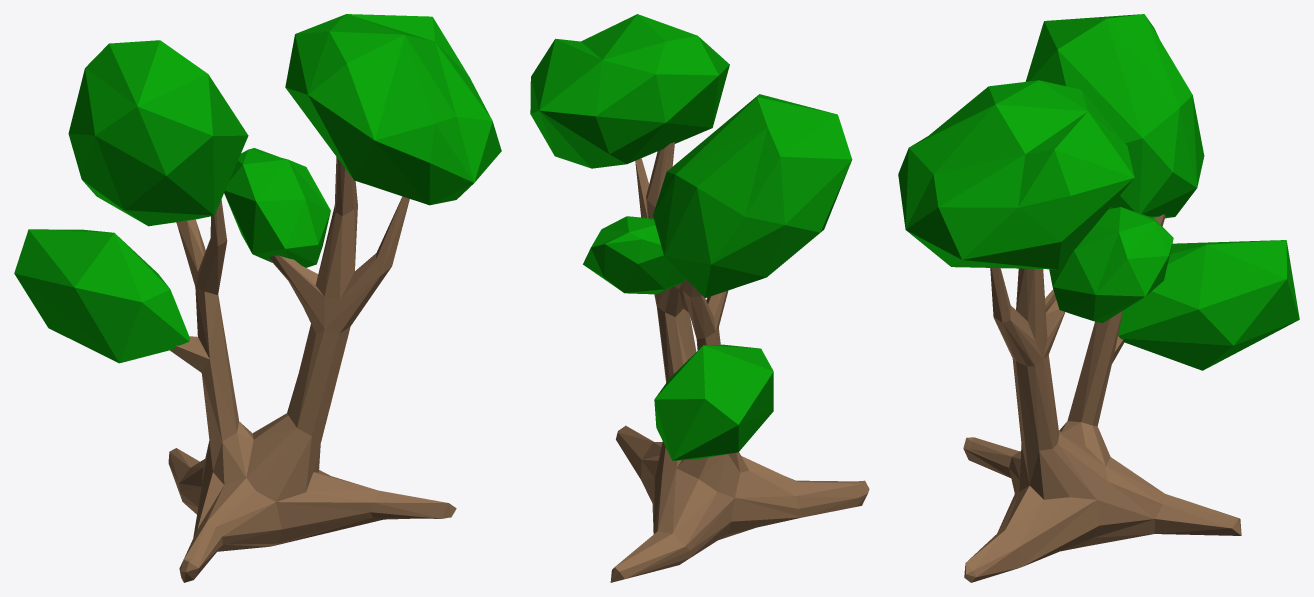
The model's file is Strauch2_Mesh_LOD.fbx.
The picture shows the model from 3 angles, left to right: view 1: azimuth 30°, elevation 25°; view 2: azimuth 150°, elevation 25°; view 3: azimuth 270°, elevation 25°; orthographic projection. The views are drawn at different scales.
Parts seen in each view (by area): view 1: Strauch_2_LOD0; view 2: Strauch_2_LOD0; view 3: Strauch_2_LOD0.
Boxes of the visible parts, box(x1,y1,x2,y2) form: Strauch_2_LOD0: box(14, 14, 501, 582); Strauch_2_LOD0: box(530, 14, 869, 582); Strauch_2_LOD0: box(898, 14, 1299, 582).
Size of what is drawn, in the model's own units: 21.76 by 29.9 by 22.34.
